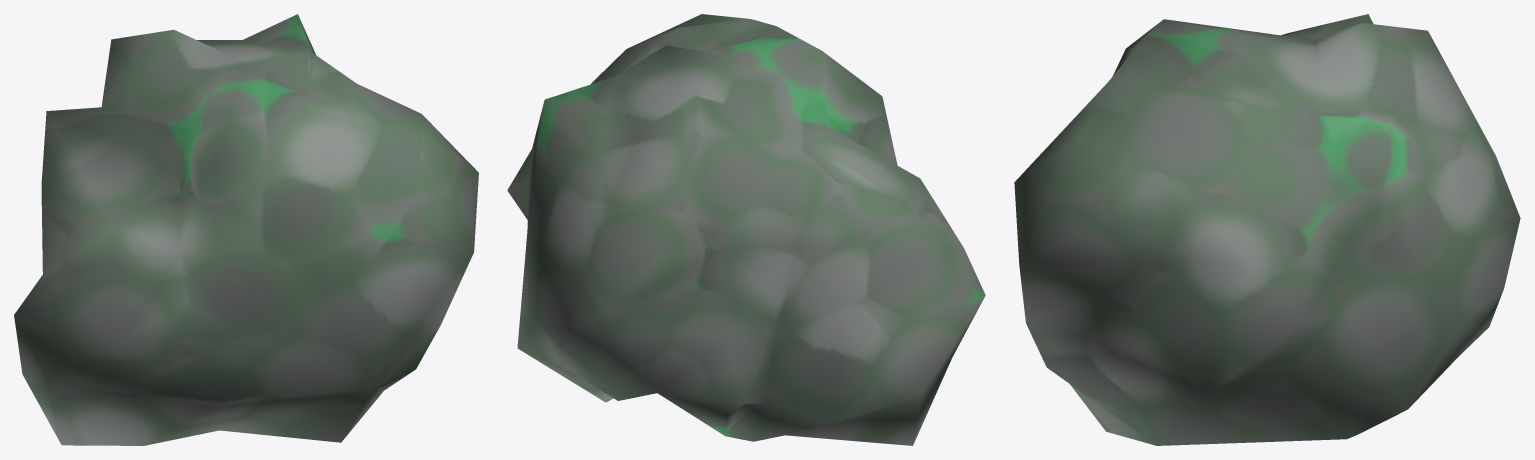
The model's file is my_mesh_rock SubTool12.glb.
The picture shows the model from 3 angles, left to right: view 1: azimuth 30°, elevation 25°; view 2: azimuth 150°, elevation 25°; view 3: azimuth 270°, elevation 25°; orthographic projection. The views are drawn at different scales.
Parts seen in each view (by area): view 1: rock SubTool12; view 2: rock SubTool12; view 3: rock SubTool12.
Boxes of the visible parts, left/top/right/bottom form: rock SubTool12: left=14, top=14, right=478, bottom=445; rock SubTool12: left=507, top=14, right=985, bottom=445; rock SubTool12: left=1014, top=14, right=1520, bottom=445.
Bounding box in the file's own units: 5.77 × 4.2 × 5.06.
1 material, 1 textured.
